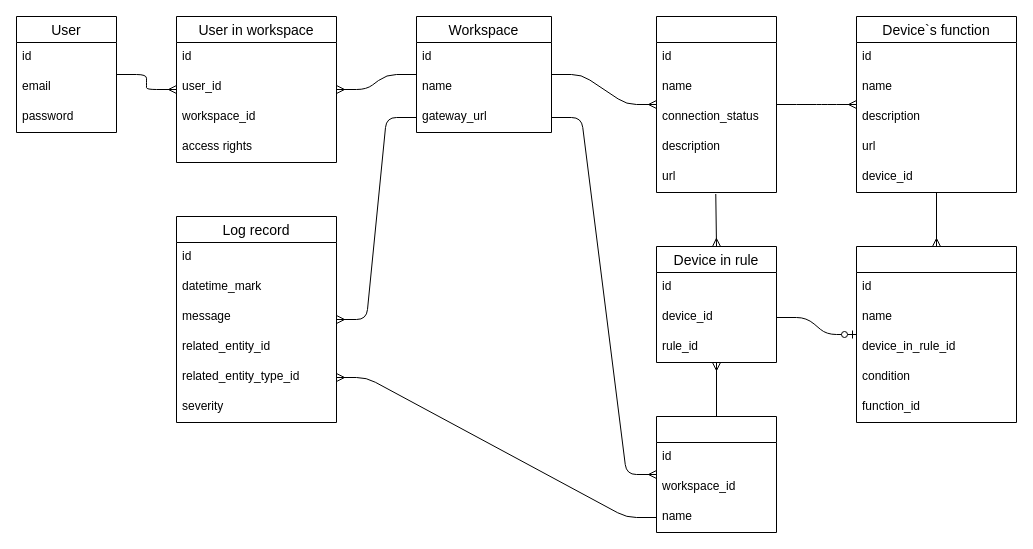
This 1033x549 diagram has some shape labels left out. The shapes that lost their labels are listed below. From the top down, each one's box as (x1, y1, x2, y2) in pixels, then its label:
(656, 16, 776, 192): Device
(856, 246, 1016, 422): Command
(656, 416, 776, 532): Rule
